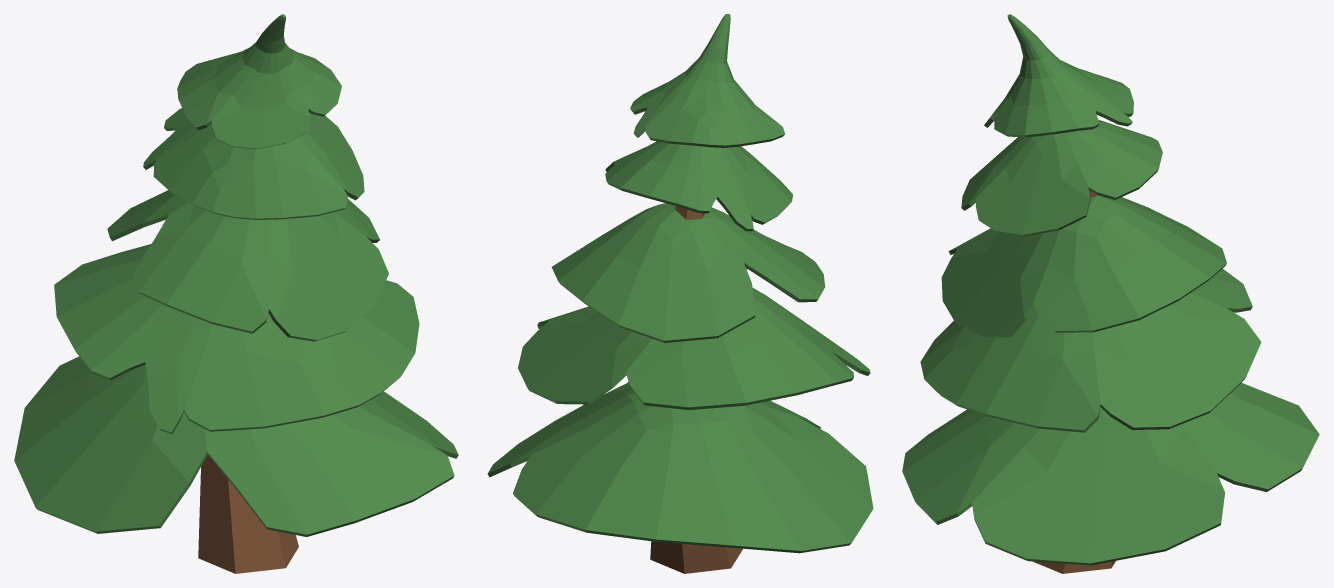
The model's file is PineTree_1.glb.
The picture shows the model from 3 angles, left to right: view 1: azimuth 30°, elevation 25°; view 2: azimuth 150°, elevation 25°; view 3: azimuth 270°, elevation 25°; orthographic projection. The views are drawn at different scales.
Parts seen in each view (by area): view 1: PineTree_1; view 2: PineTree_1; view 3: PineTree_1.
Boxes of the visible parts, x1=… form: PineTree_1: x1=14, y1=14, x2=458, y2=573; PineTree_1: x1=487, y1=14, x2=873, y2=573; PineTree_1: x1=902, y1=14, x2=1319, y2=573.
Bounding box in the file's own units: 3.44 × 4.91 × 3.45.
